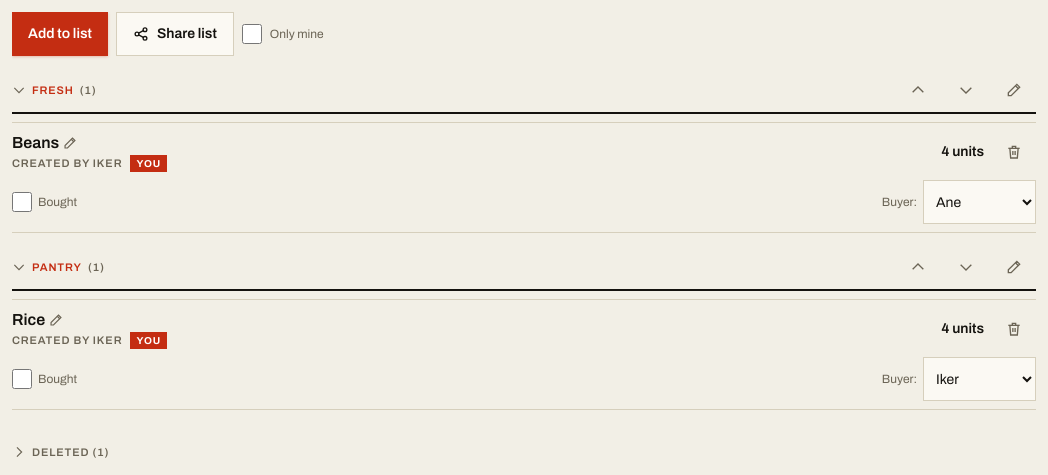
PurchasesTab › shows only my items when only mine is on
The width and height of the screenshot is (1048, 475).
Expected: the text "Beans" is shown, [12,131,59,155]
Click the checkbox labelled "Only mine". click: (252, 34)
box: [242,24,262,44]
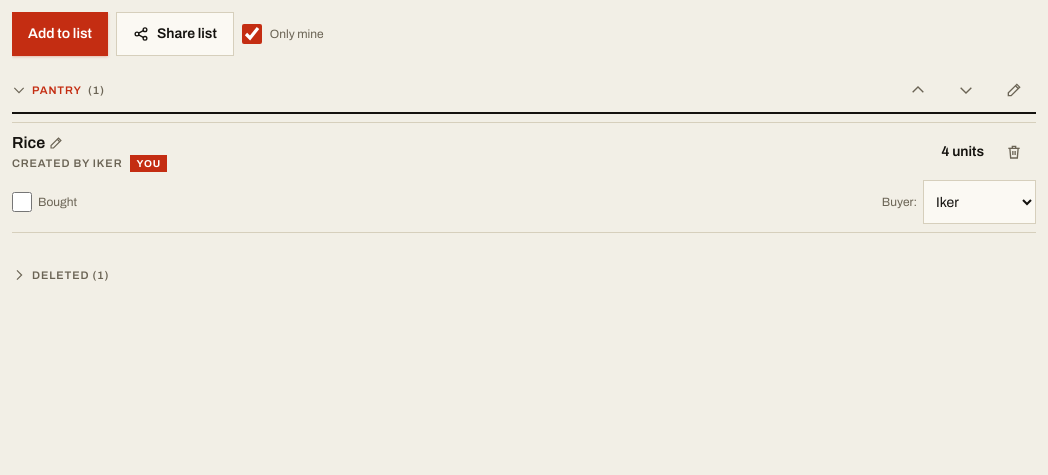
Expected: the text "Rice" is shown, [12,131,45,155]
Result: the button "Beans" is gone
